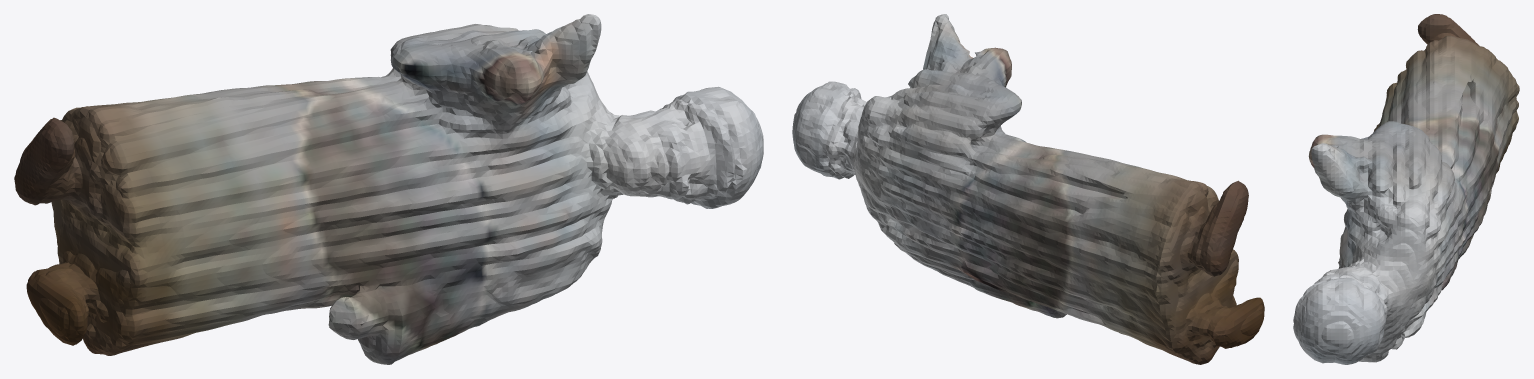
Rendered from assistant-abbah-3d.glb.
3 renders of one model, left to right at view 1: azimuth 30°, elevation 25°; view 2: azimuth 150°, elevation 25°; view 3: azimuth 270°, elevation 25°, orthographic. The views are drawn at different scales.
Visible parts, largest first — view 1: world; view 2: world; view 3: world.
Part boxes in pixels (<box>): world: <box>14,14,763,364</box>; world: <box>792,14,1264,364</box>; world: <box>1293,14,1519,364</box>.
Size of the model in its own units: 0.9328 by 0.4438 by 0.3741.
